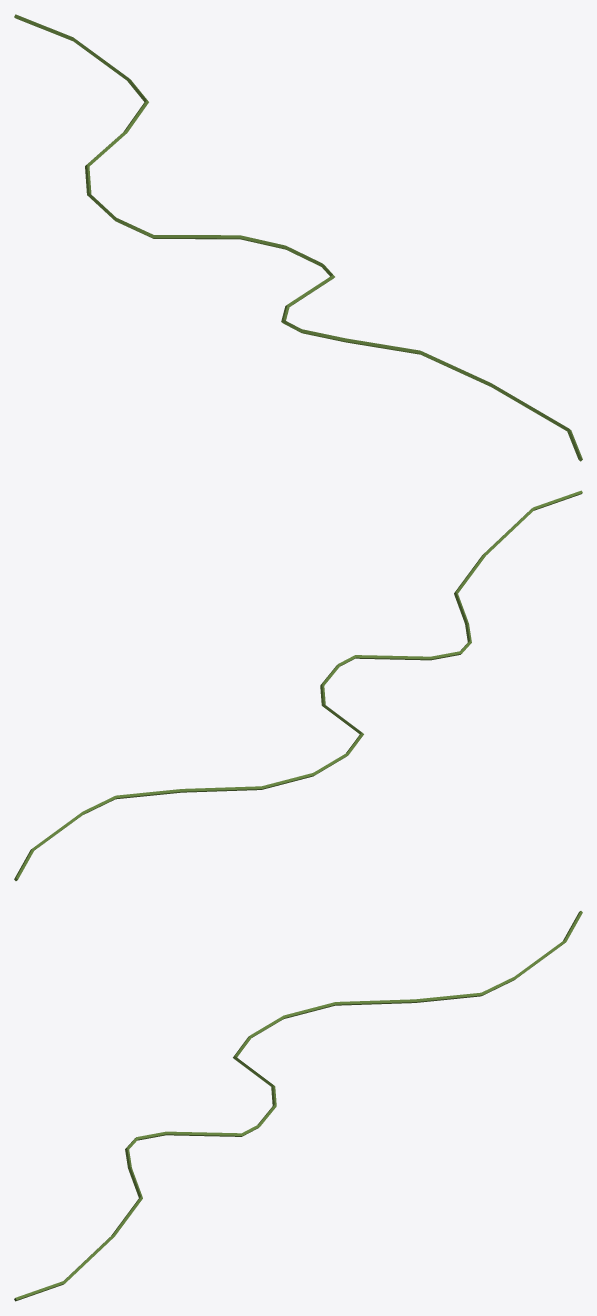
The model's file is SM_liana_ground_02.fbx.
The picture shows the model from 3 angles, top to bottom: view 1: azimuth 30°, elevation 25°; view 2: azimuth 150°, elevation 25°; view 3: azimuth 330°, elevation 25°; orthographic projection. The views are drawn at different scales.
Parts seen in each view (by area): view 1: Line021; view 2: Line021; view 3: Line021.
Boxes of the visible parts, box(x1,y1,x2,y2) form: Line021: box(14, 14, 582, 461); Line021: box(14, 490, 582, 880); Line021: box(14, 911, 582, 1301).
Bounding box in the file's own units: 80.76 × 2.03 × 533.
